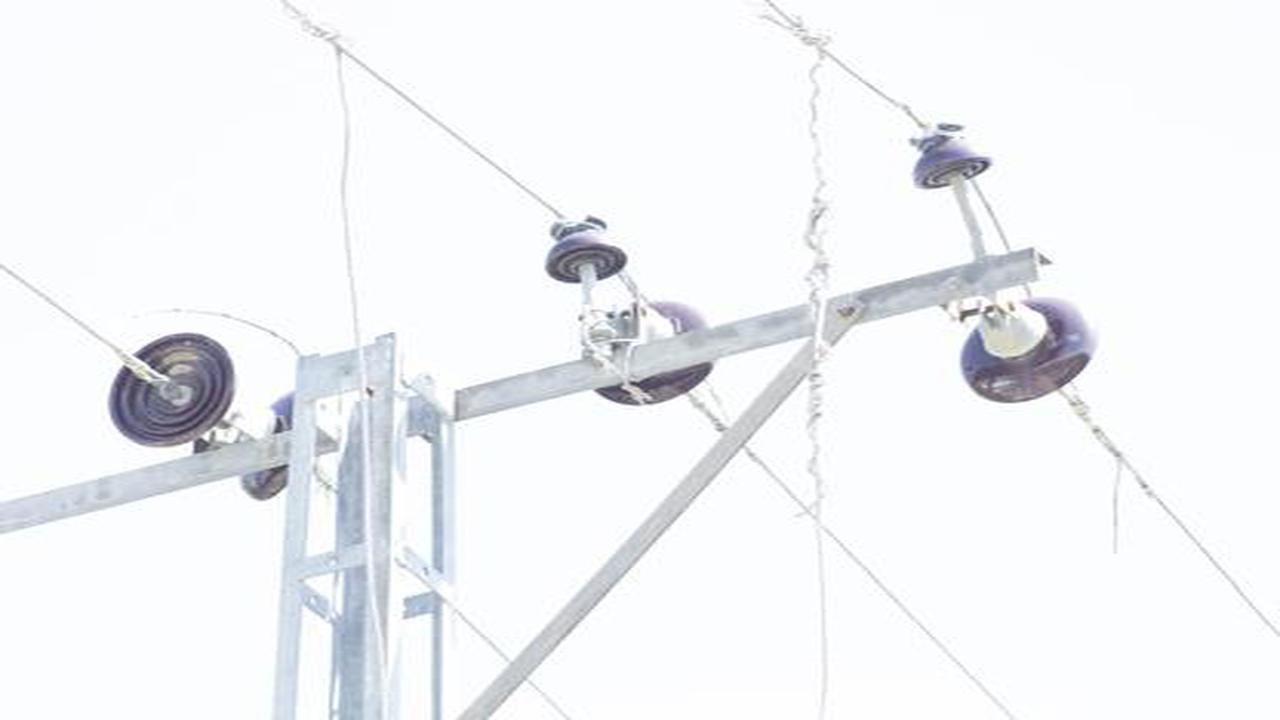insulator_disc: (952, 289, 1102, 408), (107, 330, 239, 448)
insulator_pin: (903, 118, 996, 196), (541, 211, 631, 284)
